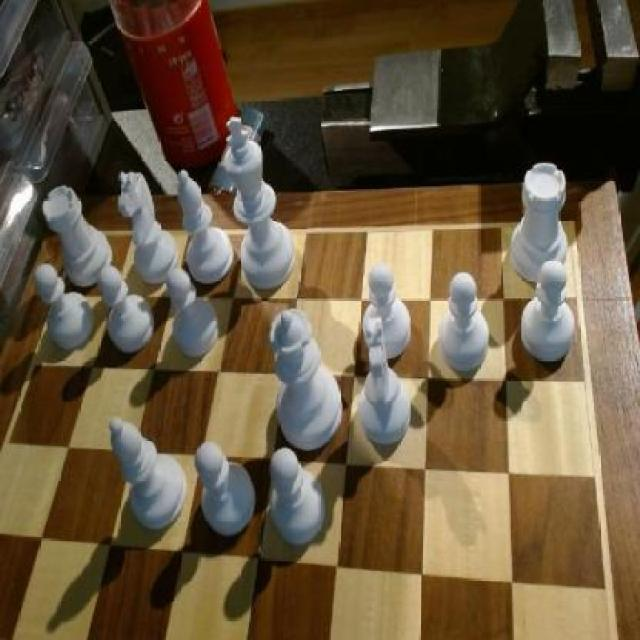black-rook: (109, 415, 192, 537), (174, 163, 235, 290)
white-bishop: (221, 114, 297, 297)
white-king: (354, 318, 418, 454), (114, 166, 178, 288)
white-knight: (434, 269, 493, 382), (520, 263, 578, 368), (196, 445, 258, 540), (270, 448, 328, 548), (34, 266, 97, 357), (360, 263, 412, 364), (99, 263, 156, 354), (169, 266, 221, 358)
white-pawn: (268, 309, 348, 451)
white-queen: (511, 156, 574, 292), (42, 182, 118, 288)
